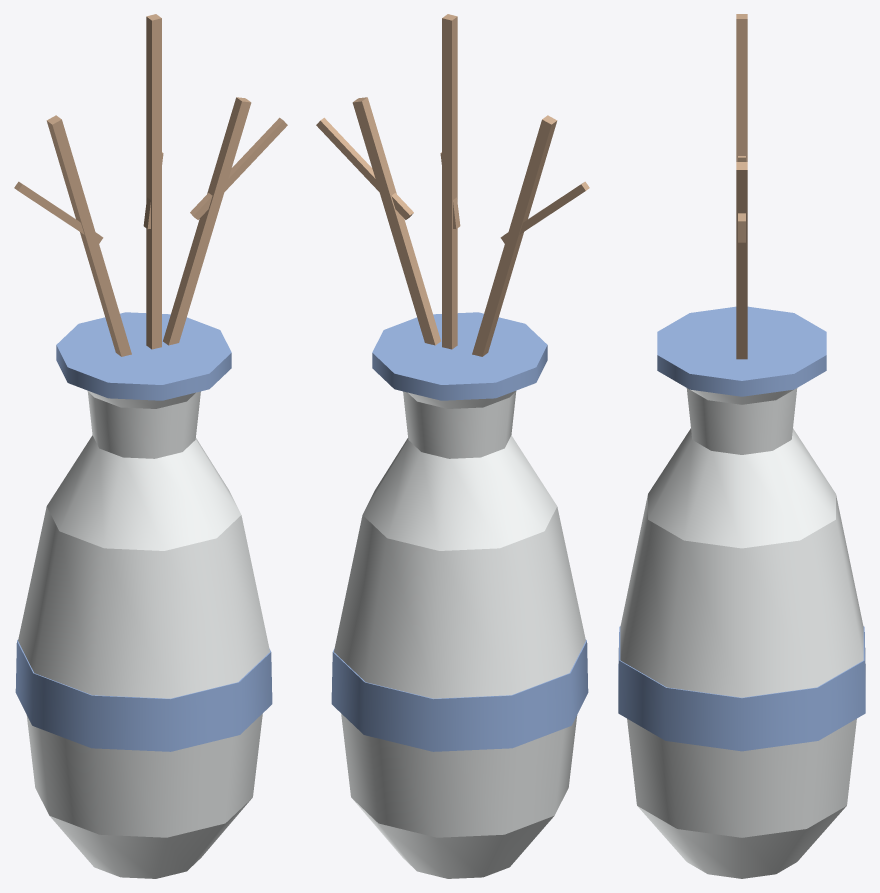
Rendered from vaseFloorTall.glb.
3 renders of one model, left to right at view 1: azimuth 30°, elevation 25°; view 2: azimuth 150°, elevation 25°; view 3: azimuth 270°, elevation 25°, orthographic.
Visible parts, largest first — view 1: vaseFloorTall; view 2: vaseFloorTall; view 3: vaseFloorTall.
Boxes of the visible parts, x1,y1,x2,y2 form: vaseFloorTall: (14,14,287,878); vaseFloorTall: (316,14,589,878); vaseFloorTall: (618,14,865,878).
Size of the model in its own units: 0.2704 by 0.8 by 0.213.
